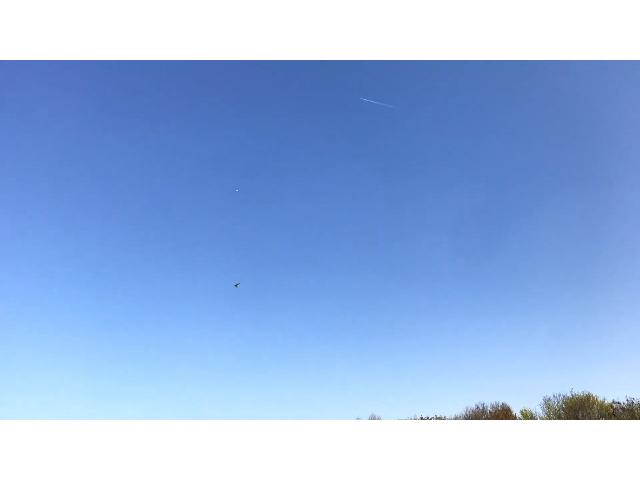Anti-Drone: (228, 278, 248, 290)
